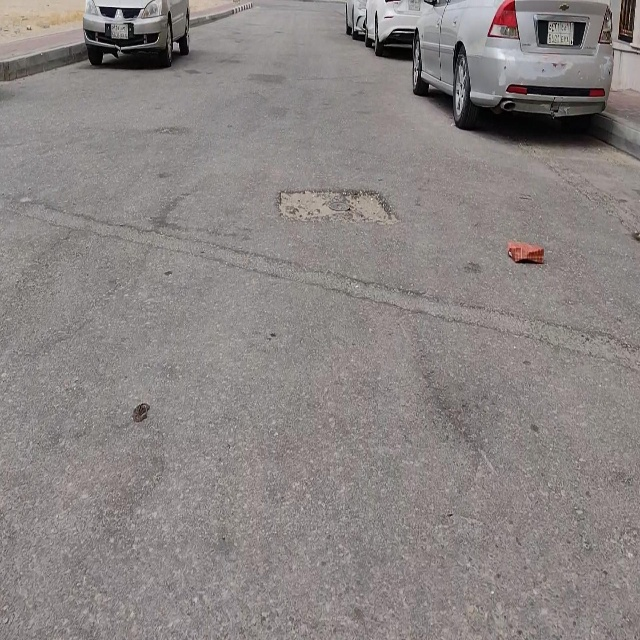pothole: (275, 189, 391, 223)
